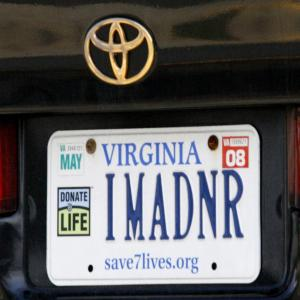Vehicle-registration-plate: (46, 130, 263, 287)
